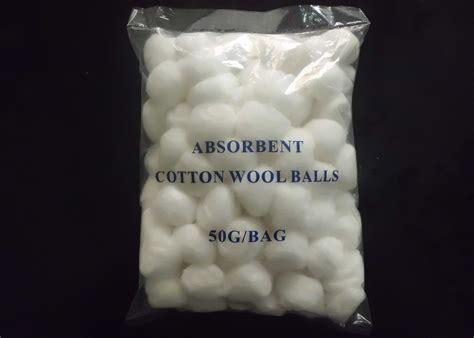cotton: (140, 30, 359, 318)
